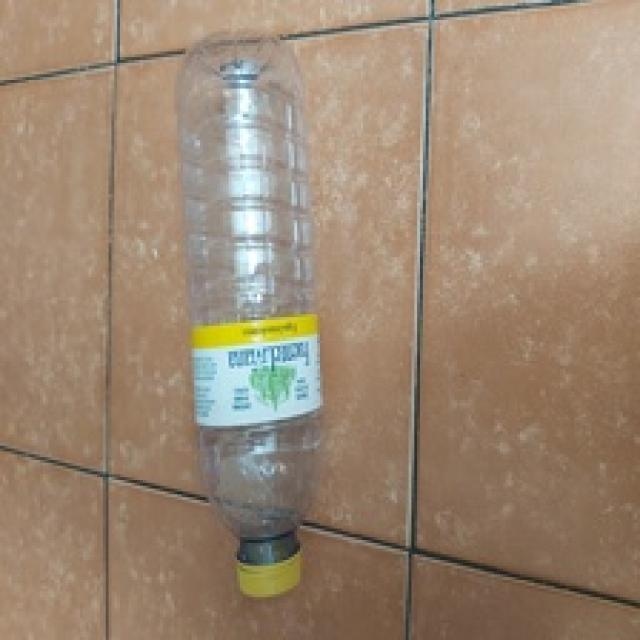Plastic: (176, 26, 328, 602)
